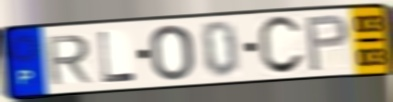0: (200, 19, 241, 80)
C: (256, 14, 307, 77)
L: (96, 30, 138, 85)
O: (148, 23, 196, 83)
P: (303, 13, 352, 74)
R: (44, 33, 94, 88)
